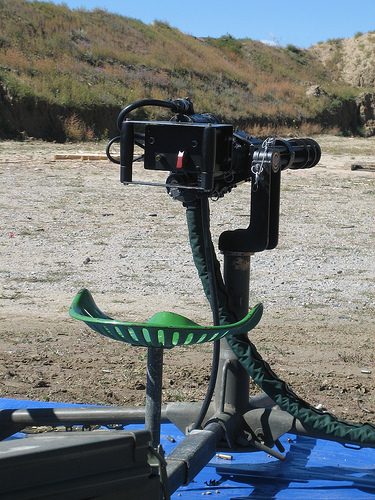rifle: (52, 92, 333, 301)
